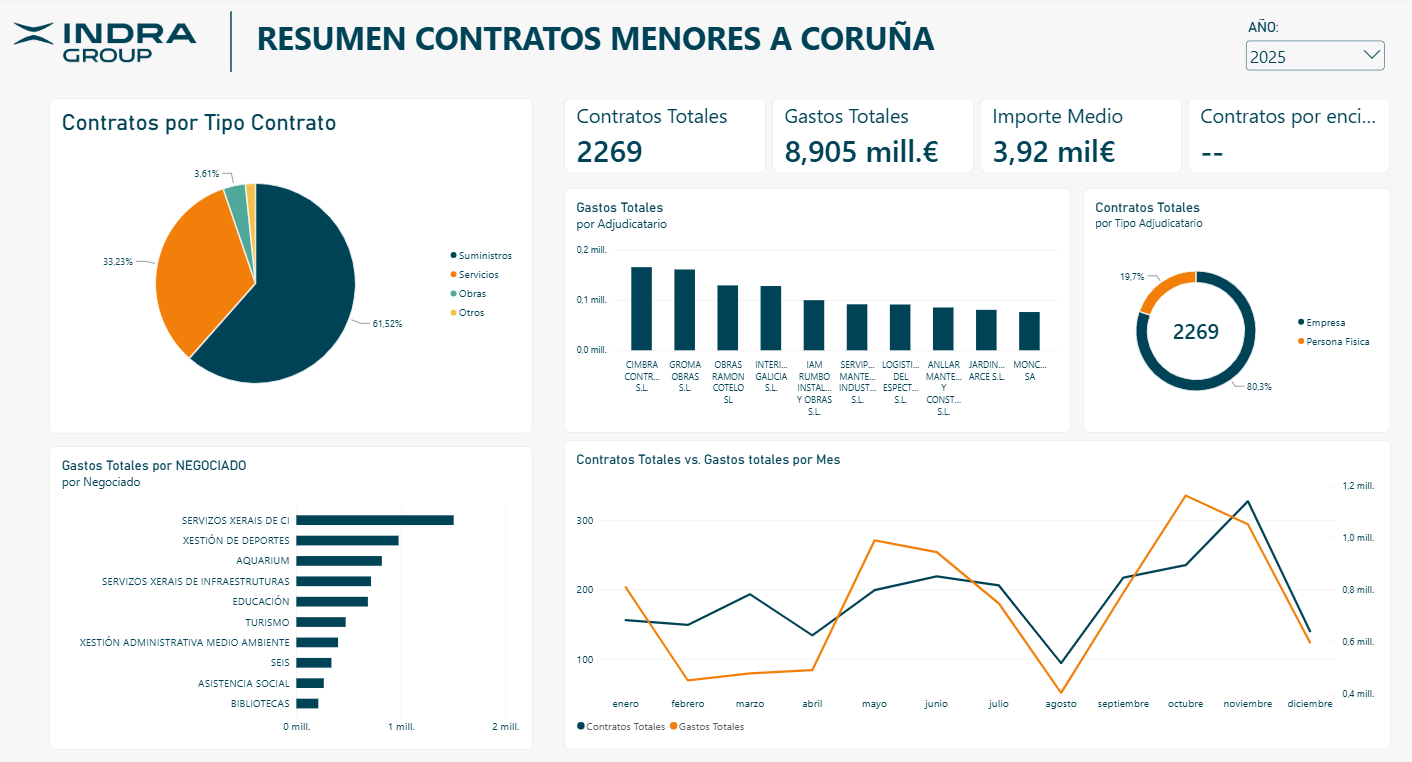

This screenshot's page, from the dashboard's own definition file:
{"tool":"powerbi","page":{"name":"Resumen general","canvas":[1920,1080],"ordinal":0},"visuals":[{"type":"textbox","box":[32.5,32.5,1055,82.5],"z":0},{"type":"cardVisual","fields":{"Data":["MEDIDAS.Contratos Totales","MEDIDAS.Gastos totales","MEDIDAS.Importe medio"]},"box":[770,140,1117.5,100],"z":1000},{"type":"slicer","title":"AÑO","fields":{"Values":["DIM_FECHAS.ANHO"]},"box":[1690,32.5,196.7,96.7],"z":2000},{"type":"pieChart","title":"Contratos por tipo","fields":{"Category":["DIM_TIPO_CONTRATO.DESCRIPCION_TIPO_CONTRATO"],"Y":["CountNonNull(FACT_CONTRATOS.FK_TIPO_CONTRATO)"]},"box":[75,140,652.5,452.5],"z":3000},{"type":"barChart","fields":{"Category":["DIM_NEGOCIADO.NEGOCIADO"],"Y":["MEDIDAS.Gastos totales"]},"box":[75,610,652.5,410],"z":4000},{"type":"lineChart","title":"Contratos Totales vs. Gastos totales por Mes","fields":{"Category":["DIM_FECHAS.FECHA.Variation.Jerarquía de fechas.Mes"],"Y":["MEDIDAS.Contratos Totales"],"Y2":["MEDIDAS.Gastos totales"]},"box":[770,602.5,1117.5,417.5],"z":5000},{"type":"columnChart","fields":{"Category":["DIM_ADJUDICATARIO.ADJUDICATARIO"],"Y":["MEDIDAS.Gastos totales"]},"box":[770,262.5,685,330],"z":6000},{"type":"donutChart","fields":{"Category":["DIM_ADJUDICATARIO.TIPO_ADJUDICATARIO"],"Y":["MEDIDAS.Contratos Totales"]},"box":[1472.5,262.5,415,330],"z":7000}]}

Visuals, with their boxes on the page's 1920x1080 design canvas (x1, y1, x2, y2). These are canvas units, not pixel positions in the 1412x762 screenshot, which may show the page scaled, cropped or inside an application window:
textbox: (left=32, top=32, right=1088, bottom=115)
cardVisual - MEDIDAS.Contratos Totales x MEDIDAS.Gastos totales: (left=770, top=140, right=1888, bottom=240)
"AÑO" slicer: (left=1690, top=32, right=1887, bottom=129)
"Contratos por tipo" pieChart: (left=75, top=140, right=728, bottom=592)
barChart - DIM_NEGOCIADO.NEGOCIADO x MEDIDAS.Gastos totales: (left=75, top=610, right=728, bottom=1020)
"Contratos Totales vs. Gastos totales por Mes" lineChart: (left=770, top=602, right=1888, bottom=1020)
columnChart - DIM_ADJUDICATARIO.ADJUDICATARIO x MEDIDAS.Gastos totales: (left=770, top=262, right=1455, bottom=592)
donutChart - DIM_ADJUDICATARIO.TIPO_ADJUDICATARIO x MEDIDAS.Contratos Totales: (left=1472, top=262, right=1888, bottom=592)
